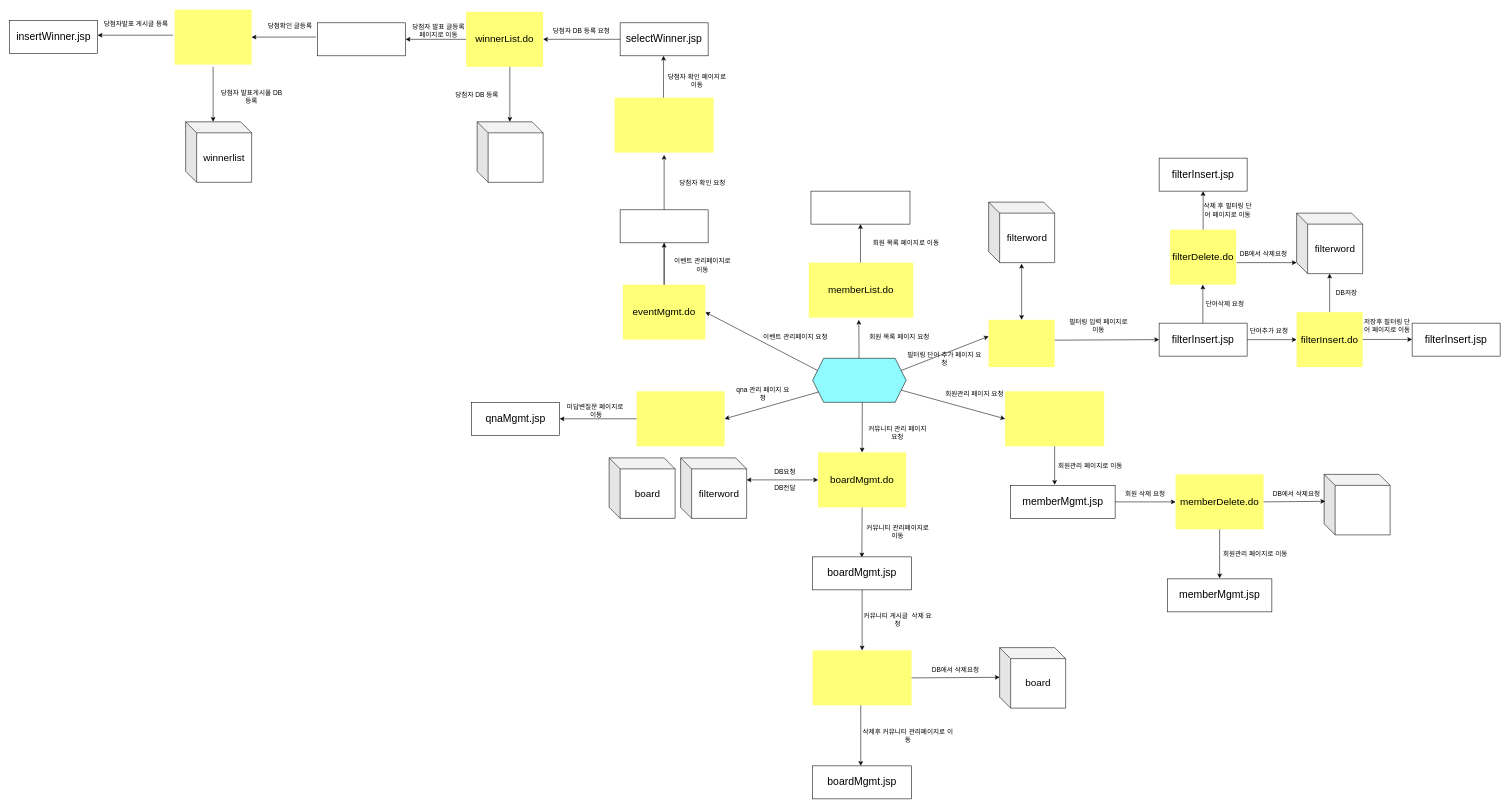
Image size: 1510x809. Some labels were removed from this diagram. The shapes that lost their labels are listed below. From the top down, each one's box as (x1, y1, x2, y2) in pixels, then its label:
(174, 9, 251, 64): insertWinner.do
(317, 22, 406, 56): winnerInsert.jsp
(614, 97, 713, 152): selectWinner.do
(477, 121, 543, 182): winner
(620, 209, 708, 243): eventMgmt.jsp
(810, 191, 910, 224): memberList.jsp
(988, 320, 1054, 367): filtering.do
(812, 358, 906, 402): AdminController .java
(636, 391, 724, 446): qnaMgmt.do
(1005, 391, 1104, 446): memberMgmt.do
(1324, 474, 1390, 535): member
(812, 650, 911, 705): boardDelete.do
